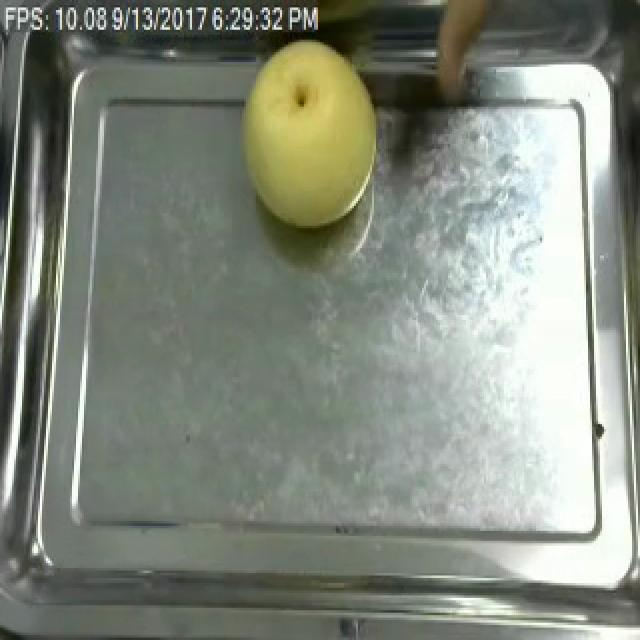Fruit: (232, 27, 388, 236)
